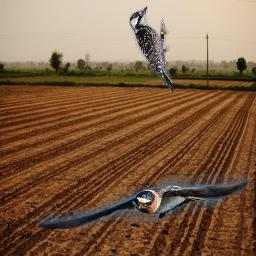Swallow: (37, 174, 250, 229)
Woodpecker: (129, 6, 174, 93)
